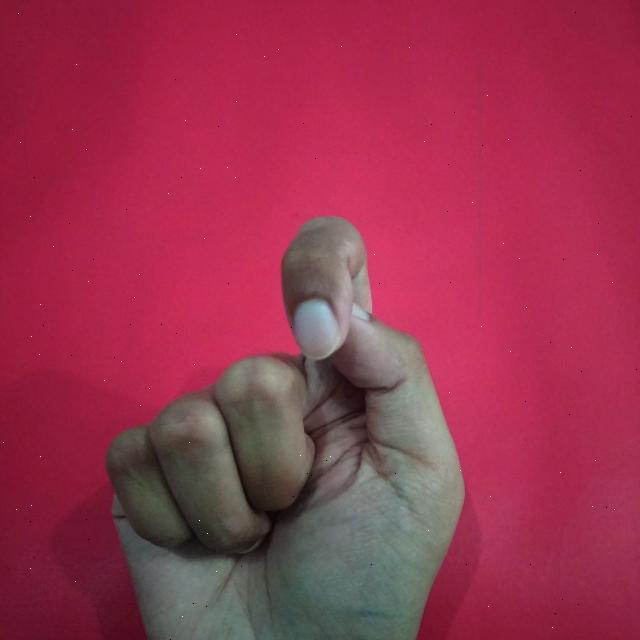T: (102, 211, 470, 640)
